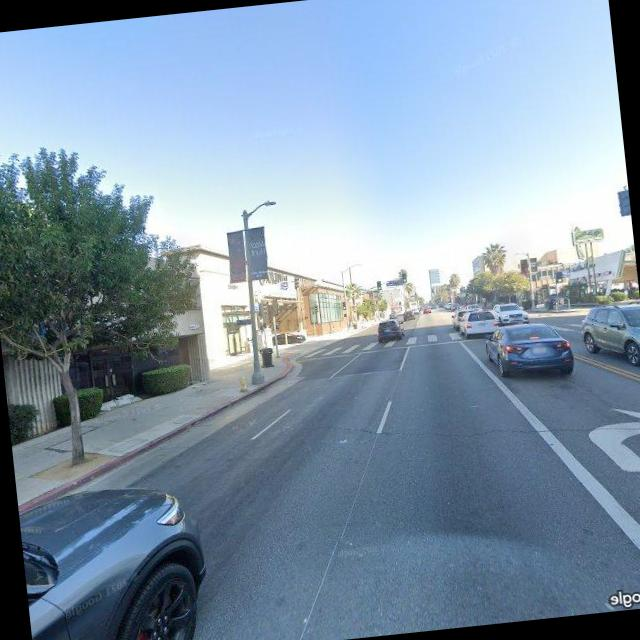crack: (321, 389, 640, 466)
